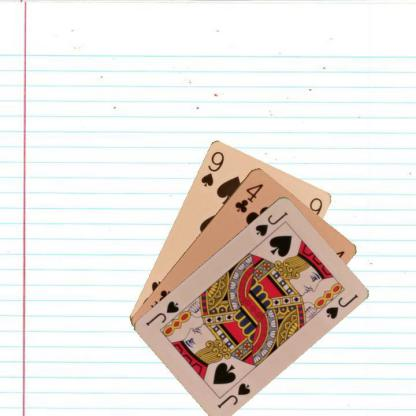4c: (232, 180, 264, 214)
9s: (198, 148, 226, 188)
Js: (252, 208, 290, 238), (214, 380, 252, 410)
